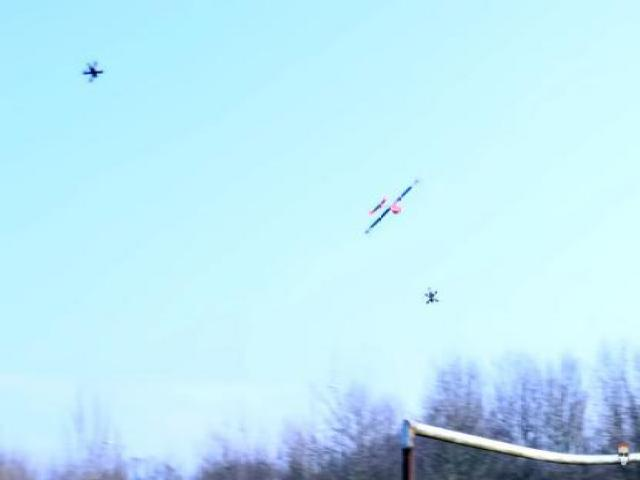uav: (358, 170, 422, 237)
